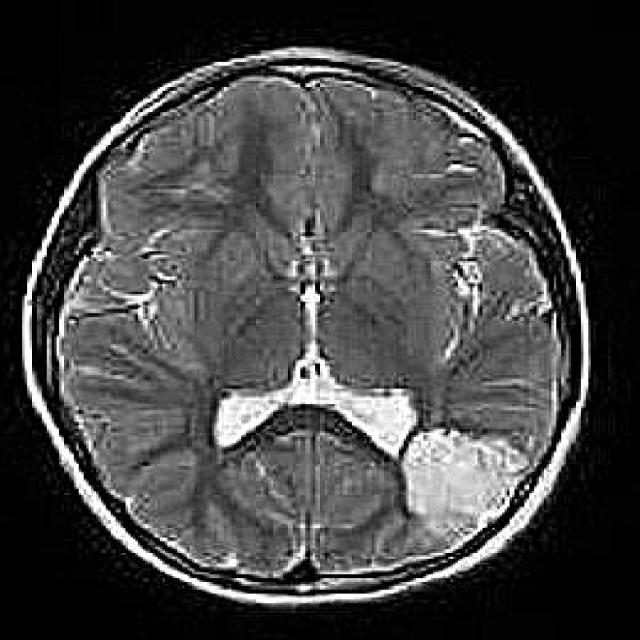Tumor-Cell: (404, 408, 526, 514)
